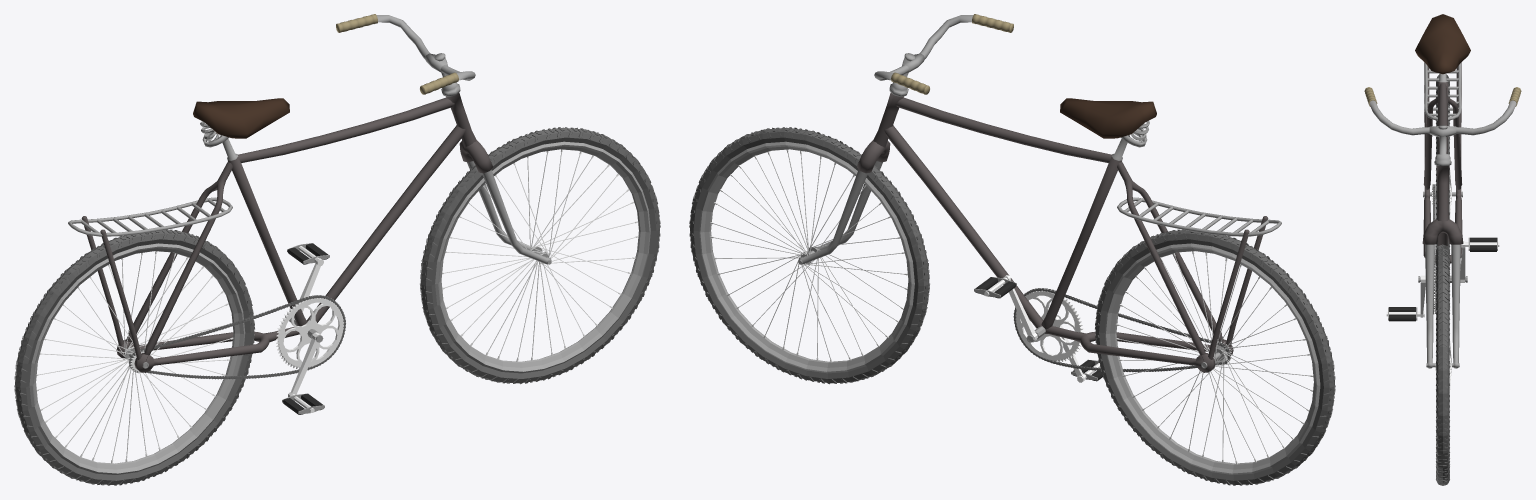
The model's file is bicycle.meshopt.glb.
The picture shows the model from 3 angles, left to right: view 1: azimuth 30°, elevation 25°; view 2: azimuth 150°, elevation 25°; view 3: azimuth 270°, elevation 25°; orthographic projection. The views are drawn at different scales.
Parts seen in each view (by area): view 1: Bicycle-Body, Bicycle-Front-Tire, Bicycle-Back-Tire, Bicycle-Front-Tire-Ring, Bicycle-Back-Tire-Ring, Bicycle-Seat, Bicycle-Front-Tire-Pattern, Bicycle-Back-Tire-Pattern, Bicycle-Tark, Bicycle-Center-Gear, Bicycle-HandleBars, Bicycle-Chain (+9 smaller); view 2: Bicycle-Body, Bicycle-Front-Tire, Bicycle-Back-Tire, Bicycle-Front-Tire-Ring, Bicycle-Back-Tire-Ring, Bicycle-Seat, Bicycle-Front-Tire-Pattern, Bicycle-Back-Tire-Pattern, Bicycle-Tark, Bicycle-HandleBars, Bicycle-Center-Gear, Bicycle-Chain (+9 smaller); view 3: Bicycle-Body, Bicycle-Front-Tire, Bicycle-Seat, Bicycle-Front-Tire-Pattern, Bicycle-HandleBars, Bicycle-Tark, Bicycle-Pedals, Bicycle-Right-Pedal, Bicycle-Left-Pedal, Bicycle-Hub, Bicycle-Back-Tire, Bicycle-Chain (+1 smaller).
Boxes of the visible parts, x1,y1,x2,y2 form: Bicycle-Body: (81, 53, 551, 372); Bicycle-Front-Tire: (420, 127, 659, 383); Bicycle-Back-Tire: (15, 230, 254, 484); Bicycle-Front-Tire-Ring: (435, 141, 650, 373); Bicycle-Back-Tire-Ring: (29, 243, 245, 474); Bicycle-Seat: (193, 98, 289, 147); Bicycle-Front-Tire-Pattern: (420, 127, 660, 384); Bicycle-Back-Tire-Pattern: (14, 229, 254, 485); Bicycle-Tark: (68, 197, 232, 236); Bicycle-Center-Gear: (279, 298, 343, 366); Bicycle-HandleBars: (336, 14, 475, 94); Bicycle-Chain: (128, 295, 345, 379); Bicycle-Body: (798, 53, 1268, 372); Bicycle-Front-Tire: (690, 127, 929, 383); Bicycle-Back-Tire: (1095, 230, 1334, 484); Bicycle-Front-Tire-Ring: (699, 141, 914, 373); Bicycle-Back-Tire-Ring: (1104, 243, 1320, 474); Bicycle-Seat: (1060, 98, 1156, 147); Bicycle-Front-Tire-Pattern: (689, 127, 929, 384); Bicycle-Back-Tire-Pattern: (1095, 229, 1335, 485); Bicycle-Tark: (1117, 197, 1281, 236); Bicycle-HandleBars: (874, 14, 1013, 94); Bicycle-Center-Gear: (1016, 291, 1080, 360); Bicycle-Chain: (1013, 288, 1230, 372); Bicycle-Body: (1418, 62, 1467, 368); Bicycle-Front-Tire: (1436, 245, 1449, 484); Bicycle-Seat: (1415, 14, 1470, 74); Bicycle-Front-Tire-Pattern: (1436, 244, 1449, 485); Bicycle-HandleBars: (1364, 87, 1521, 135); Bicycle-Tark: (1424, 63, 1461, 120); Bicycle-Pedals: (1386, 241, 1499, 317); Bicycle-Right-Pedal: (1388, 307, 1417, 321); Bicycle-Left-Pedal: (1468, 237, 1497, 251); Bicycle-Hub: (1429, 126, 1456, 137); Bicycle-Back-Tire: (1436, 81, 1449, 249); Bicycle-Chain: (1433, 184, 1435, 313).
Size of the model in its own units: 15.81 by 8.68 by 3.81.
